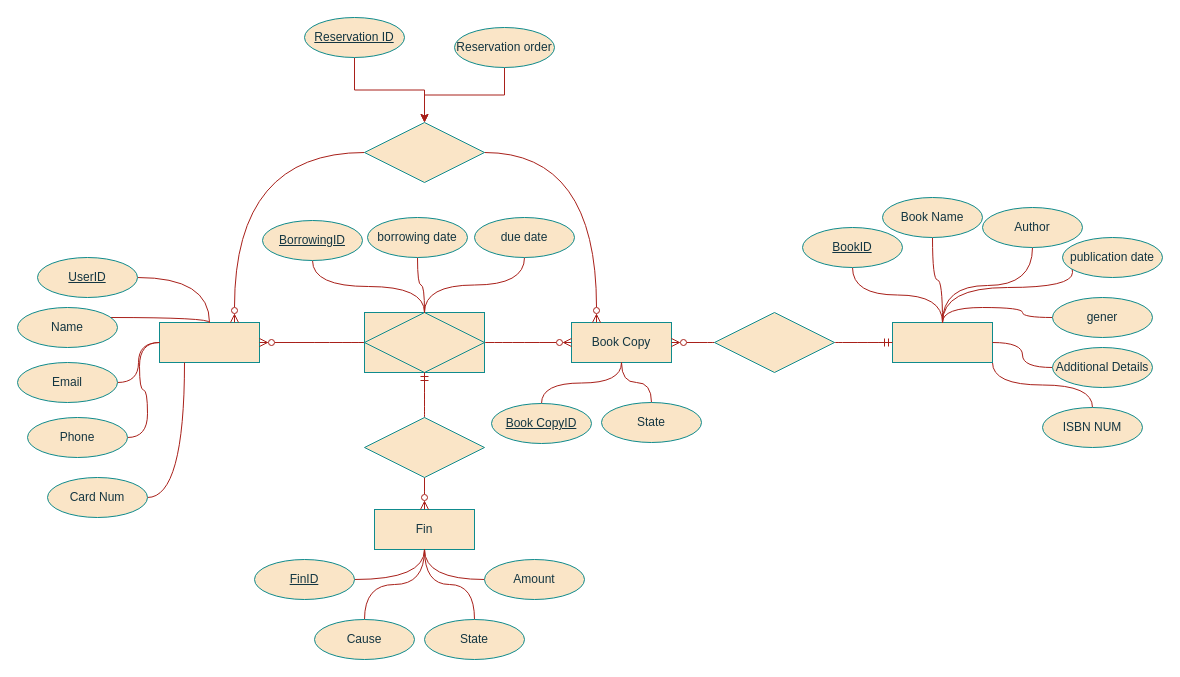
Some shapes in this 1180 by 677 pixel diagram are drawn without their labels. The centre of each missing label's shape, as x and y in pixels:
"Book" goes at (942,342).
"Borrowing" goes at (424,342).
"Contain" goes at (774,342).
"Have" goes at (424,447).
"Reserve" goes at (424,152).
"User" goes at (209,342).
